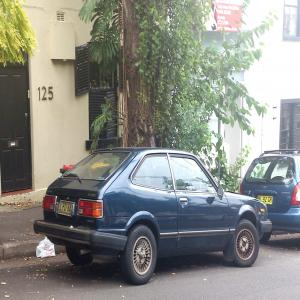Vehicle-registration-plate: (59, 199, 77, 219), (258, 194, 275, 207)
